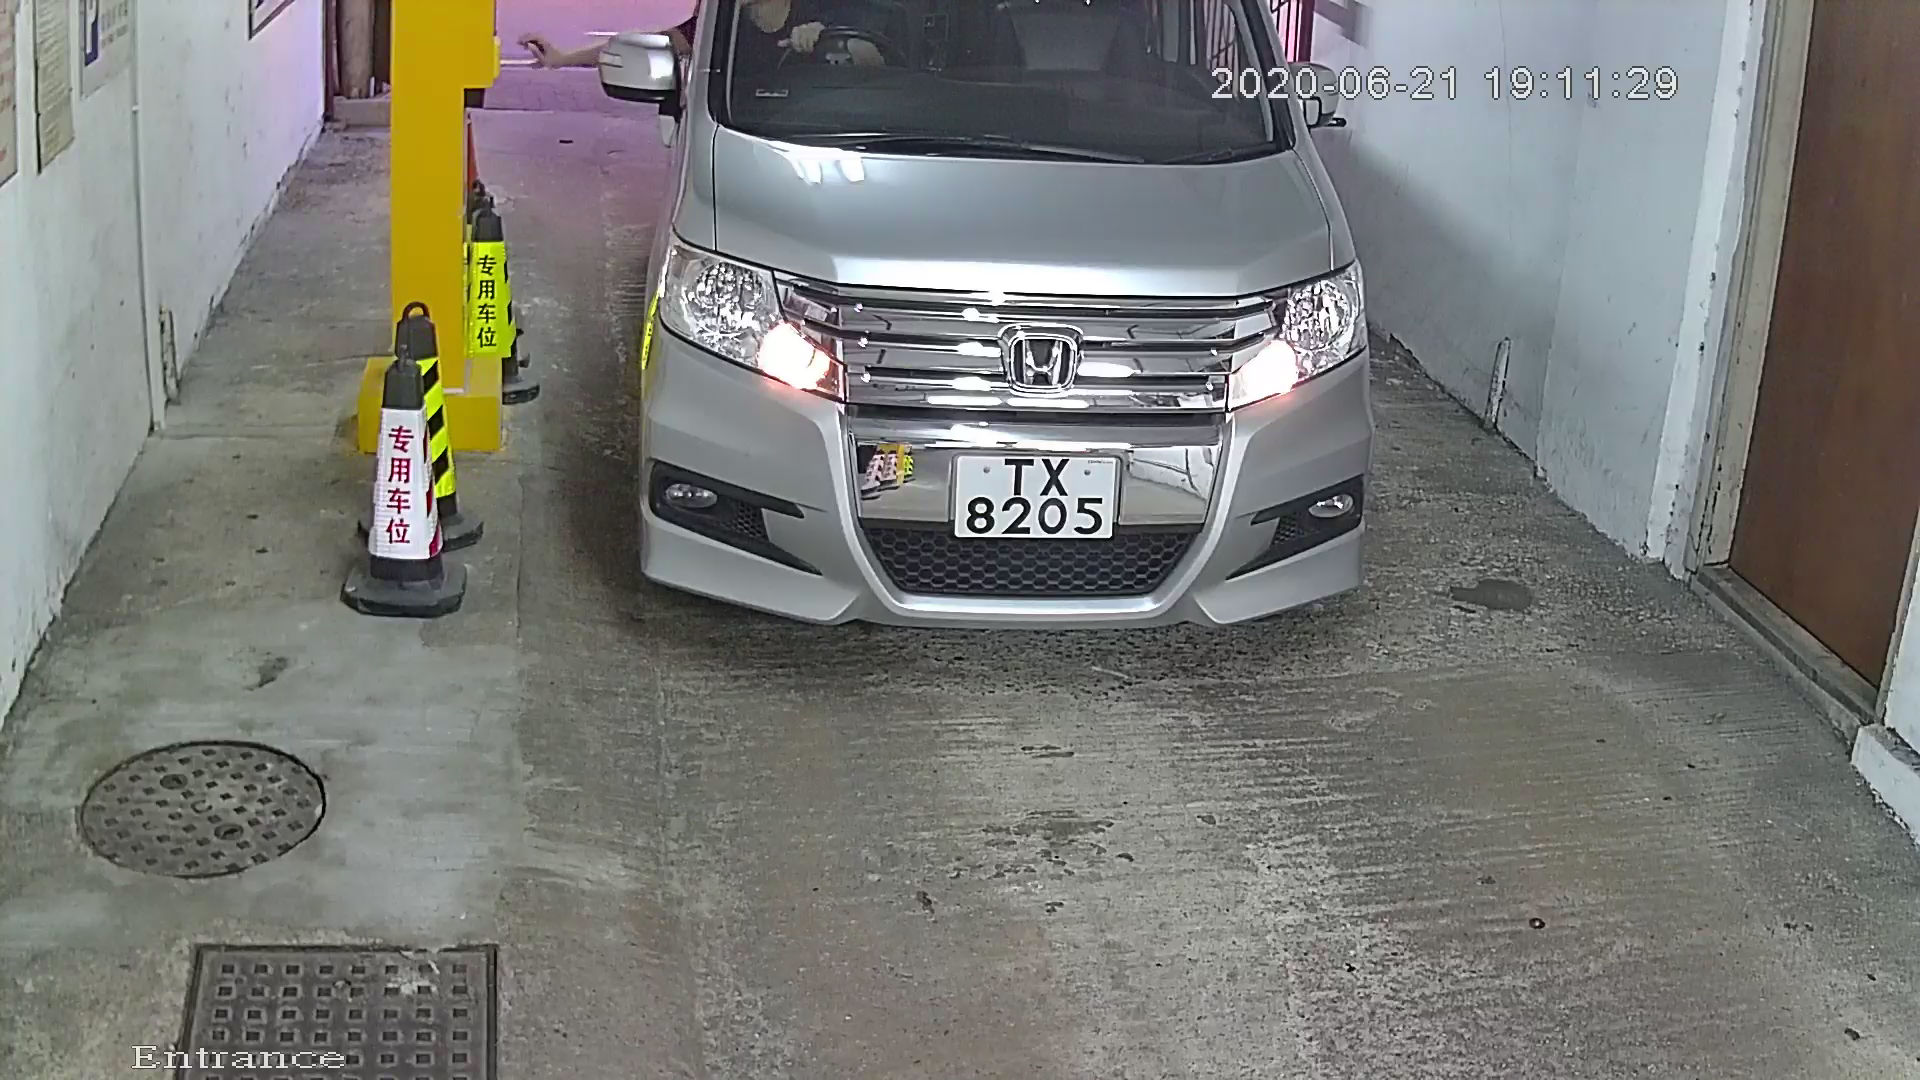privatecar: (574, 3, 1444, 711)
